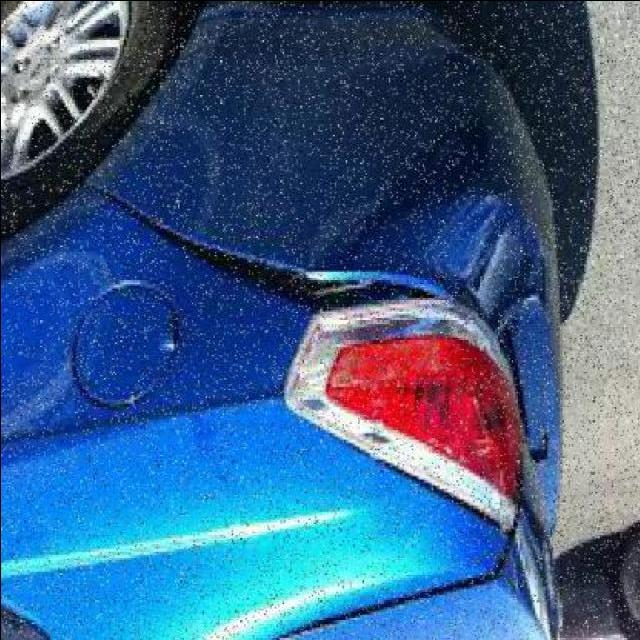rear-bumper-dent: (96, 2, 557, 309)
